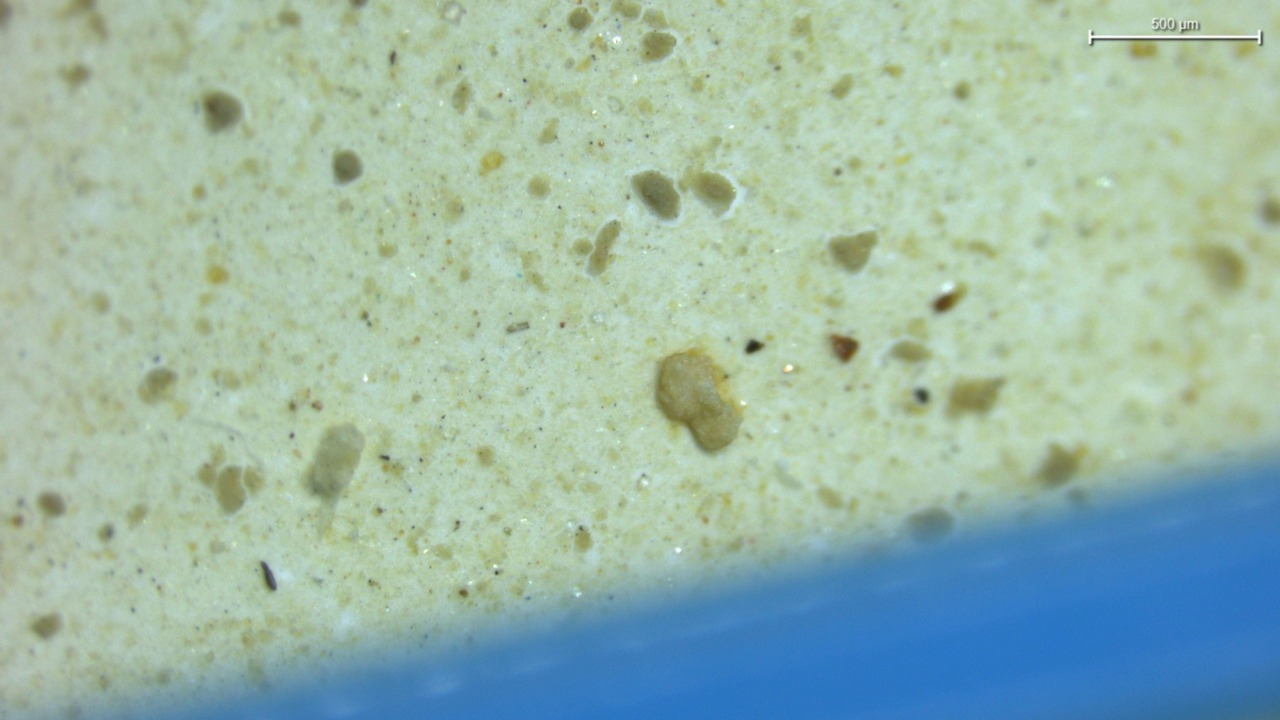microplastic_fragment: (656, 350, 742, 451), (310, 423, 364, 499)
